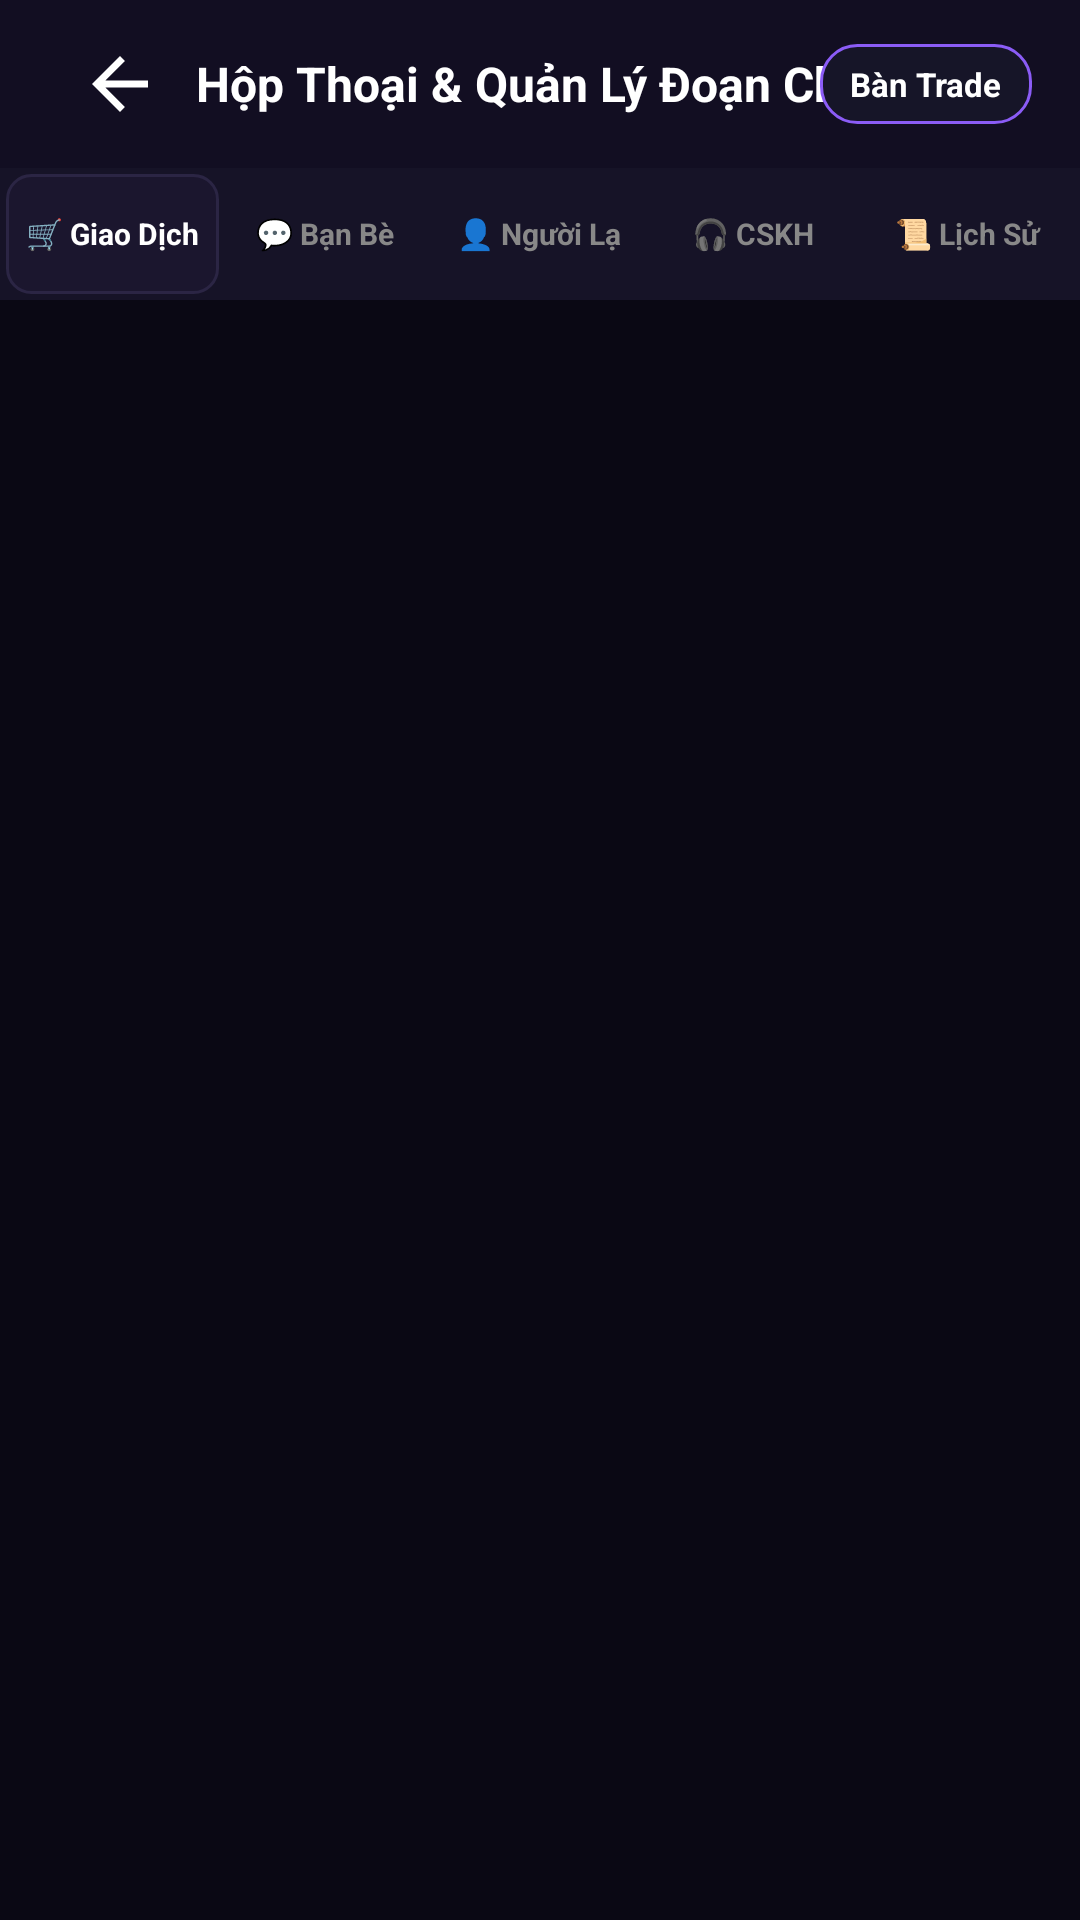

Where icons sit on this 1080px x 1920px app screen, as {"x1": x1, "y1": y1, "x2": x2, "y2": y2}:
Quay lại: {"x1": 92, "y1": 56, "x2": 148, "y2": 112}
